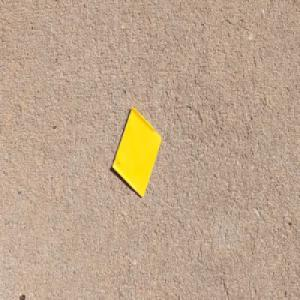PlasticPart: (111, 105, 162, 199)
